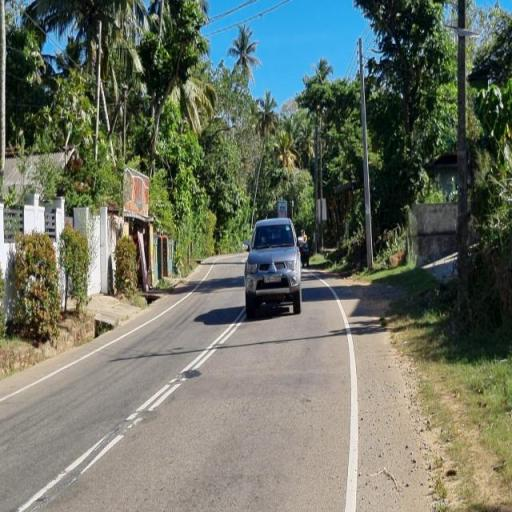double_white_line: (123, 309, 245, 432)
